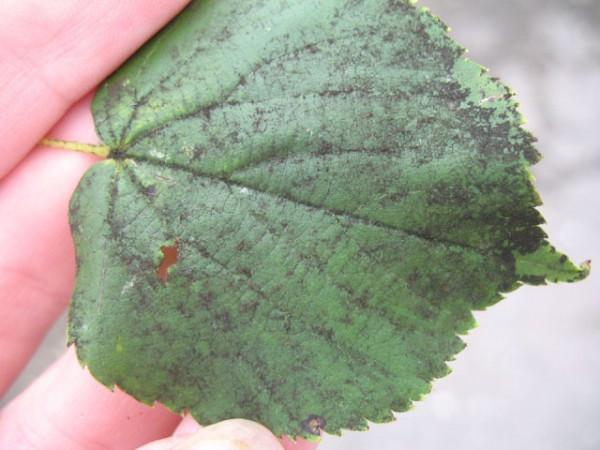soot dew: (71, 0, 549, 439)
